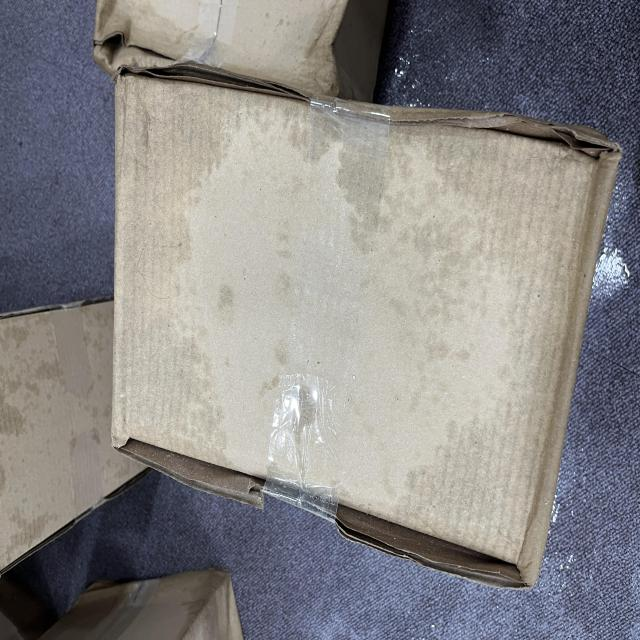wet: (67, 68, 277, 508), (413, 176, 531, 574)
